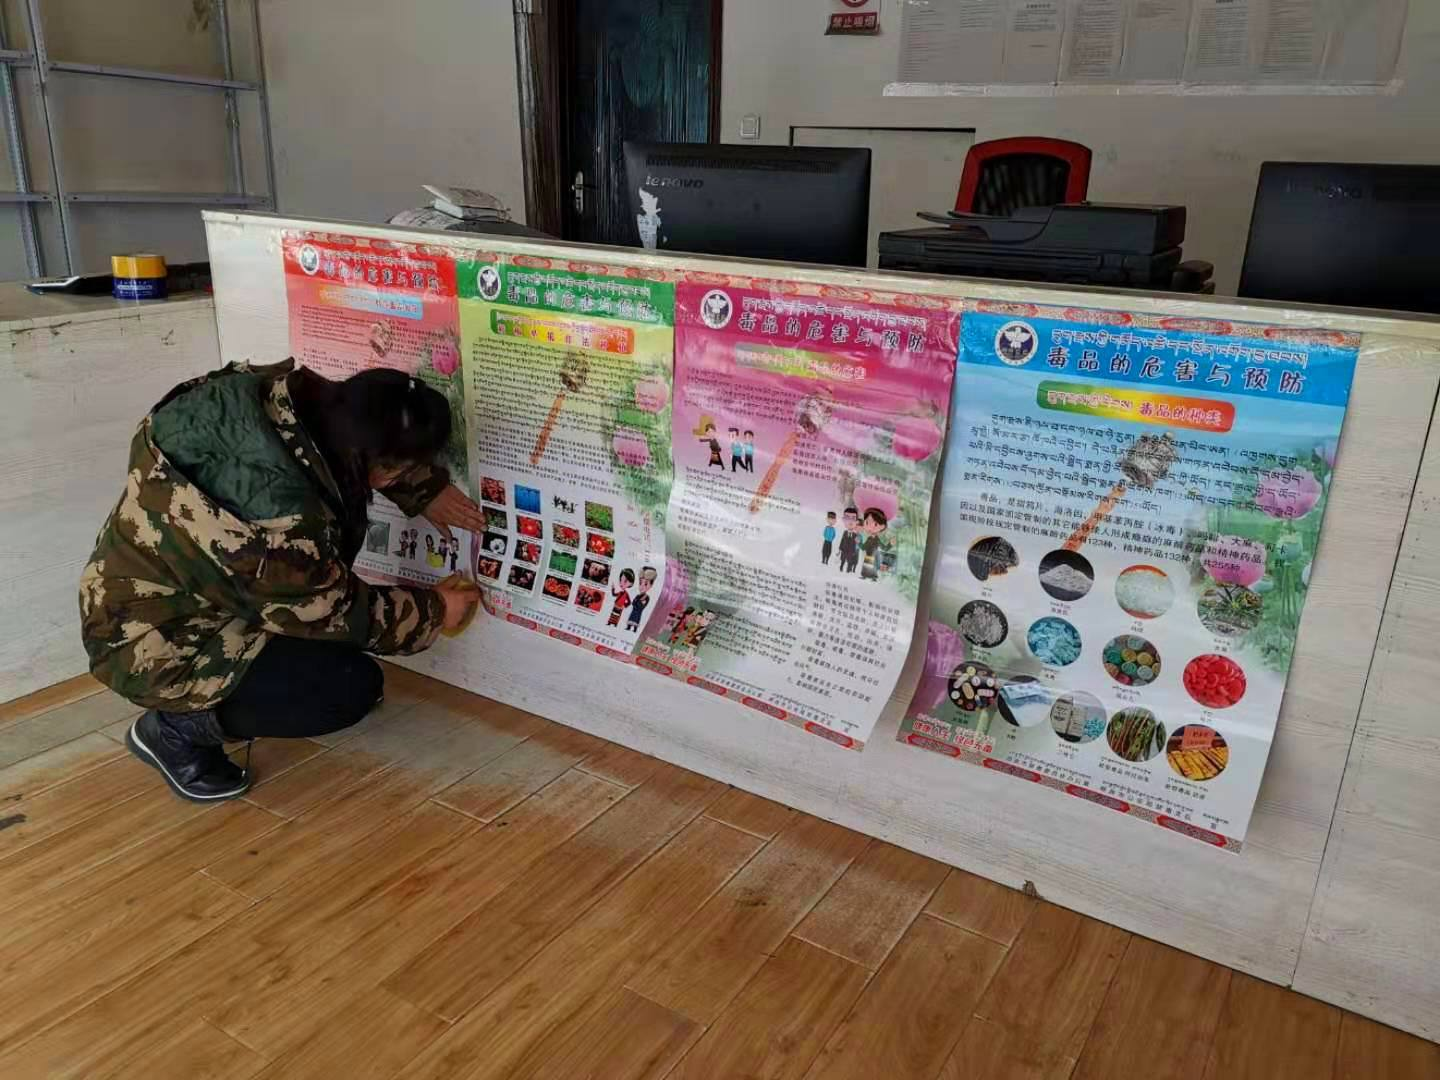bill: (899, 313, 1362, 859), (629, 281, 962, 753), (449, 255, 674, 684), (281, 235, 475, 604)
